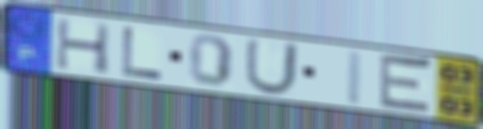0: (186, 32, 237, 90)
E: (376, 50, 436, 118)
H: (53, 16, 114, 77)
I: (343, 47, 367, 109)
L: (119, 24, 165, 82)
U: (242, 37, 302, 98)
